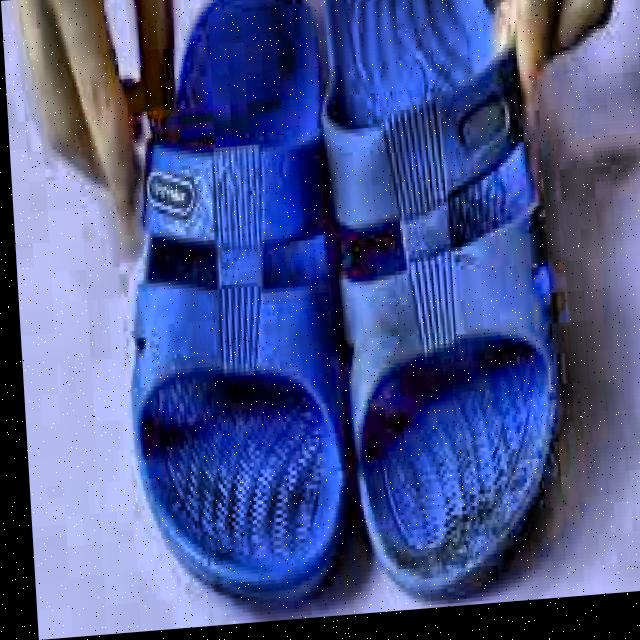shoes: (107, 0, 596, 629)
